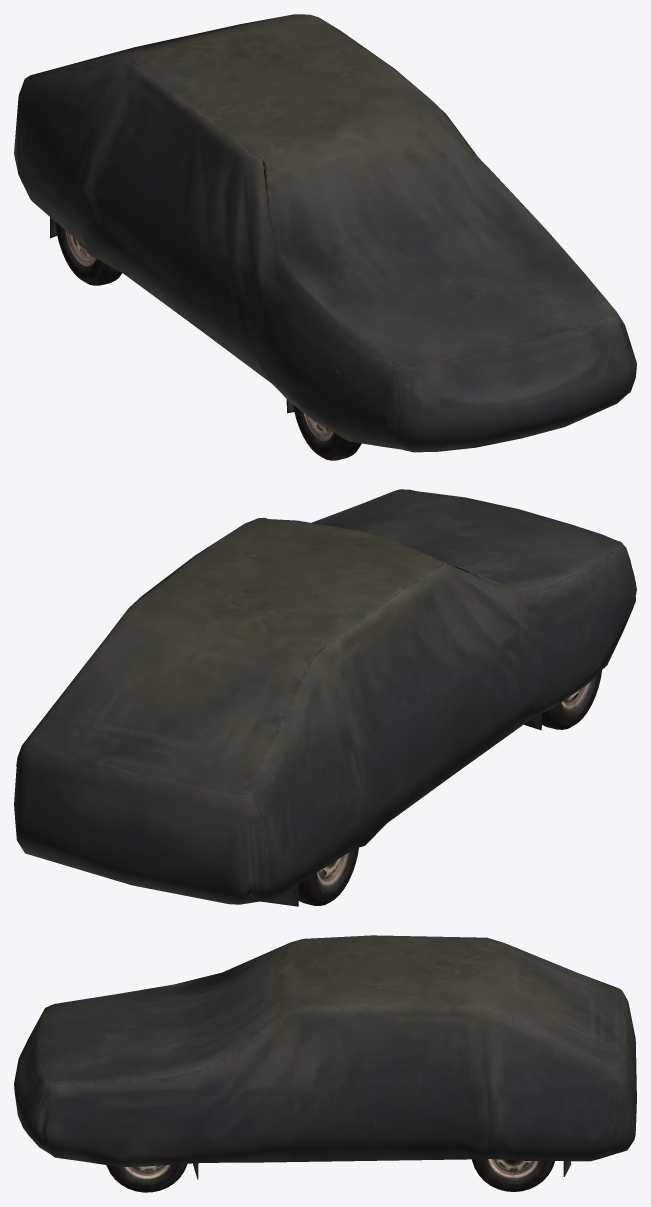
File: covered_car.glb
3 renders of one model, top to bottom at view 1: azimuth 30°, elevation 25°; view 2: azimuth 150°, elevation 25°; view 3: azimuth 270°, elevation 25°, orthographic. The views are drawn at different scales.
Parts seen in each view (by area): view 1: covered_car, covered_car_wheel_03, covered_car_wheel_02; view 2: covered_car, covered_car_wheel_03, covered_car_wheel_02; view 3: covered_car, covered_car_wheel_04, covered_car_wheel_01.
Boxes of the visible parts, <box> form: covered_car: <box>14,14,636,452</box>; covered_car_wheel_03: <box>55,222,121,285</box>; covered_car_wheel_02: <box>293,405,361,460</box>; covered_car: <box>14,489,636,906</box>; covered_car_wheel_03: <box>298,847,358,905</box>; covered_car_wheel_02: <box>542,670,601,729</box>; covered_car: <box>14,935,636,1179</box>; covered_car_wheel_04: <box>472,1159,554,1191</box>; covered_car_wheel_01: <box>106,1163,187,1192</box>.
Size of the model in its own units: 1.79 by 1.41 by 4.38.
Materials: 1 (1 with a texture image).
